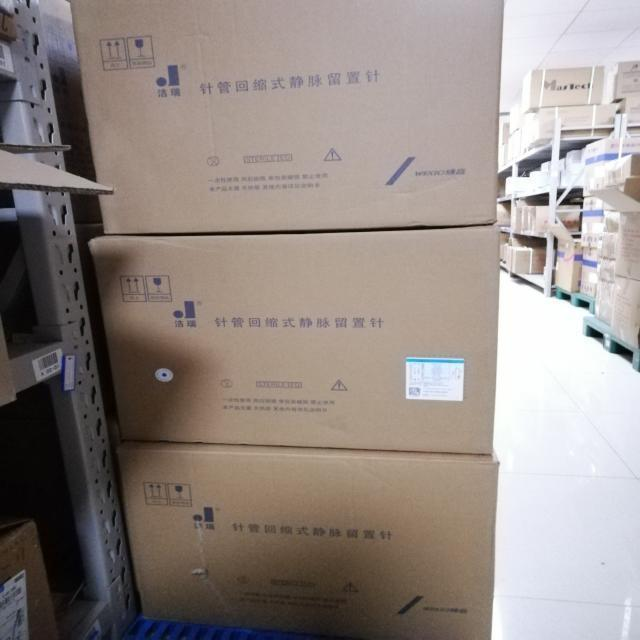box: (66, 0, 502, 226), (88, 229, 501, 459), (118, 431, 494, 637), (0, 515, 62, 640), (523, 67, 601, 109), (586, 135, 638, 182), (616, 276, 640, 346), (614, 214, 640, 275), (555, 237, 581, 294), (580, 194, 617, 234), (507, 244, 545, 279), (607, 66, 640, 98)
